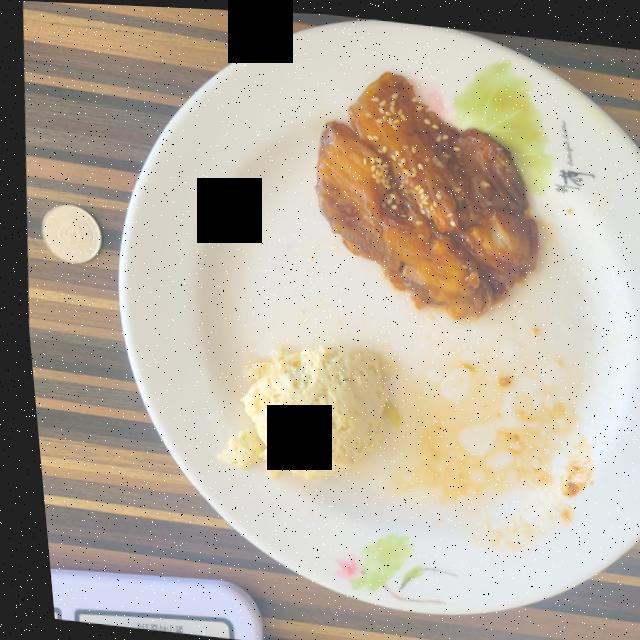Kabayaki sea bream fillet: (312, 68, 533, 315)
coin: (36, 203, 96, 262)
